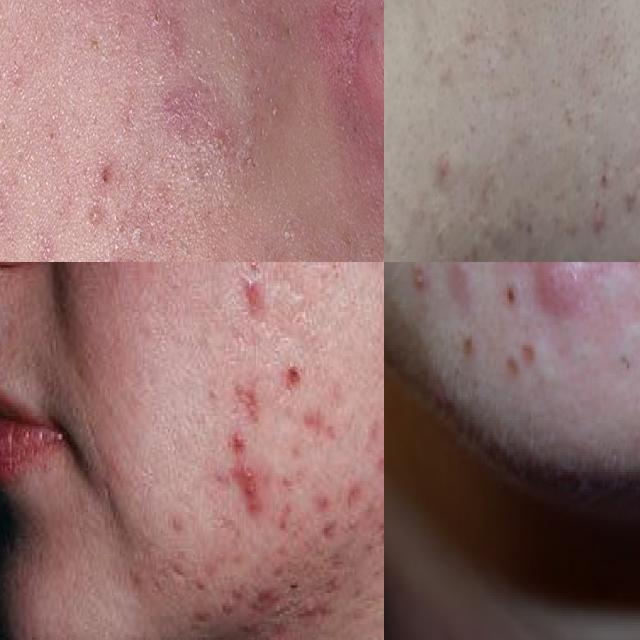acne_scars: (241, 372, 270, 437), (339, 468, 374, 515), (186, 593, 219, 637), (316, 518, 344, 564)
comedone: (430, 222, 452, 262), (461, 227, 485, 262)
cystic: (259, 626, 299, 640)
papule: (223, 262, 283, 322), (583, 205, 611, 242)
sebo-crystan-conglo: (228, 460, 272, 525)
